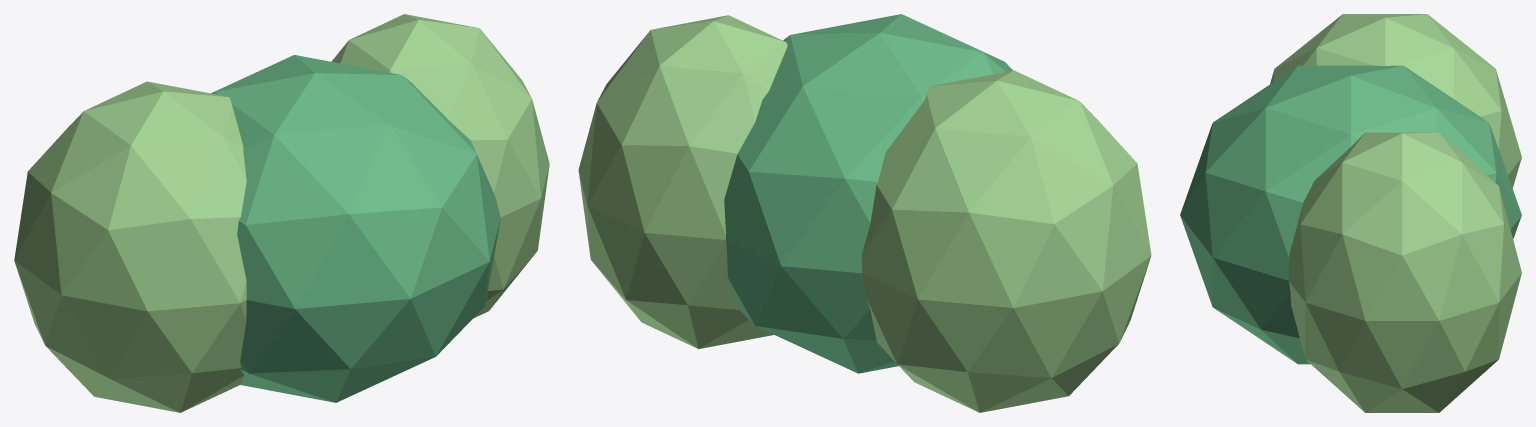
File: tropical_bush.glb
3 views of the same model, side by side, from view 1: azimuth 30°, elevation 25°; view 2: azimuth 150°, elevation 25°; view 3: azimuth 270°, elevation 25° (orthographic). The views are drawn at different scales.
Visible parts, largest first — view 1: tropical_bush; view 2: tropical_bush; view 3: tropical_bush.
Boxes of the visible parts, x1,y1,x2,y2 form: tropical_bush: (14, 14, 549, 412); tropical_bush: (578, 14, 1151, 412); tropical_bush: (1180, 14, 1521, 412).
Bounding box in the file's own units: 1.51 × 0.9 × 1.
